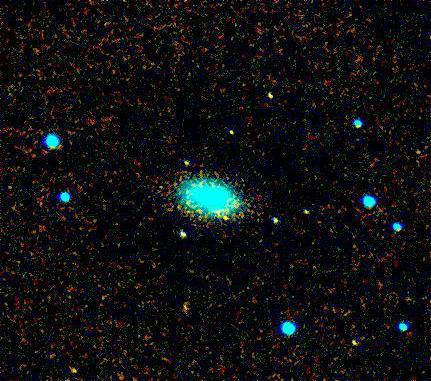star: (215, 206, 245, 236)
